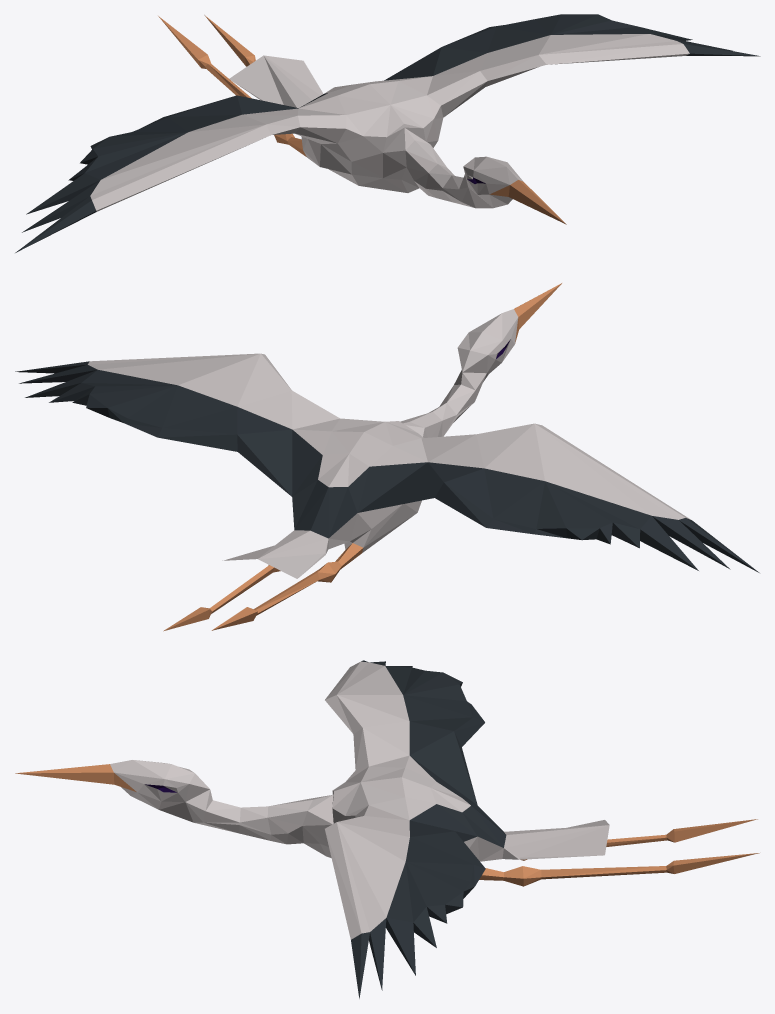
The model's file is Stork.glb.
3 views of the same model, one above another, from view 1: azimuth 30°, elevation 25°; view 2: azimuth 150°, elevation 25°; view 3: azimuth 270°, elevation 25° (orthographic). The views are drawn at different scales.
Bounding box in the file's own units: 197 × 29.9 × 174.
